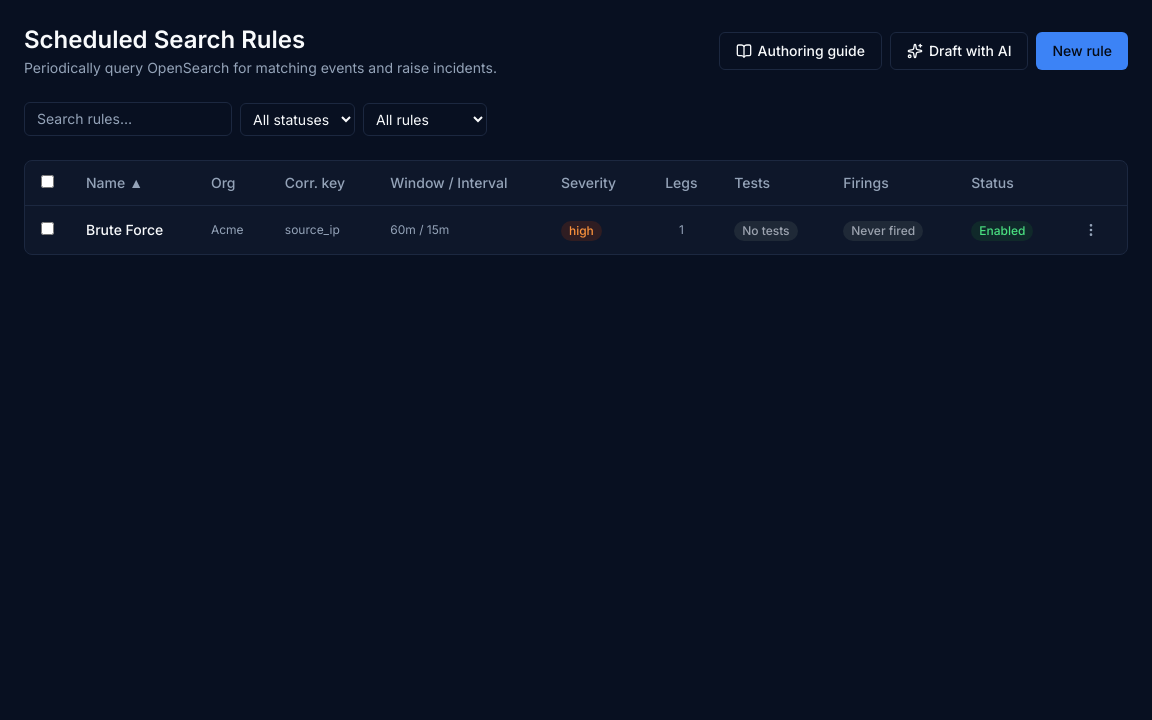
it: SearchRulesAdmin — clone rule › opens the builder in create mode pre-filled with a "Copy of" name
Expected: the button "Brute Force" is shown, [86, 220, 163, 240]
What coordinates should you click on to do the following:
click the button named "Actions"
I would click on:
 (1091, 230)
Its box is [1079, 218, 1103, 242].
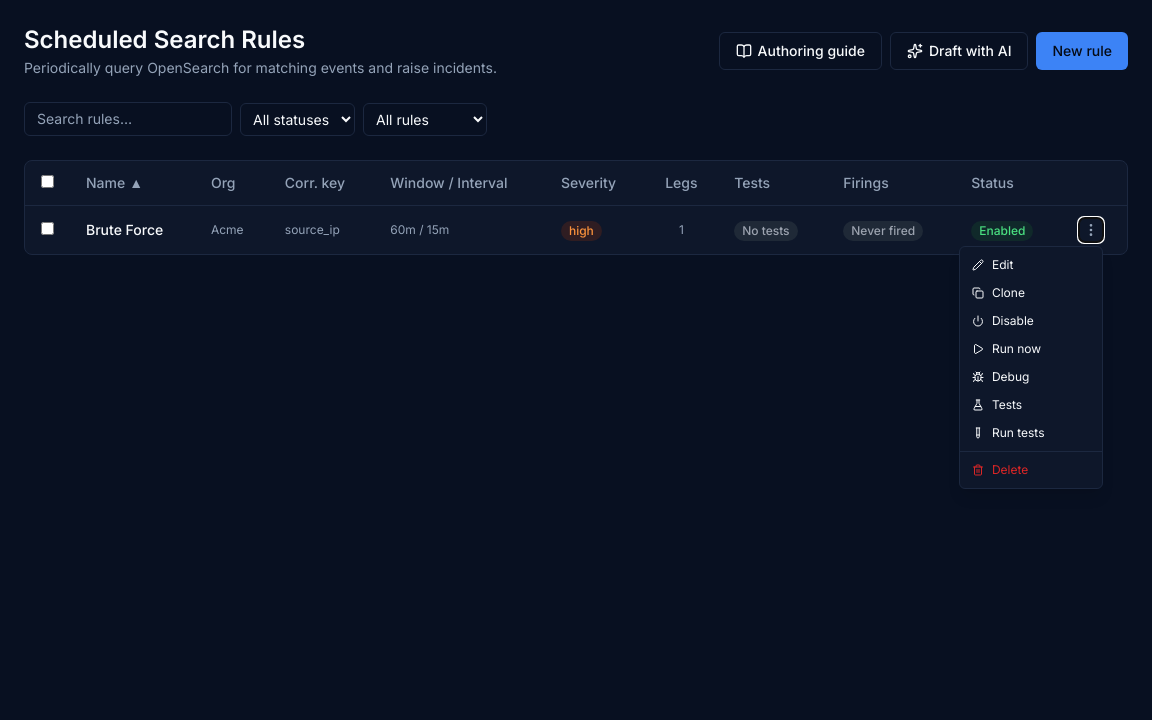
What coordinates should you click on to do the following:
click the button "Clone"
I would click on:
 (1031, 293)
Its box is [960, 279, 1102, 307].
(page scrolled)
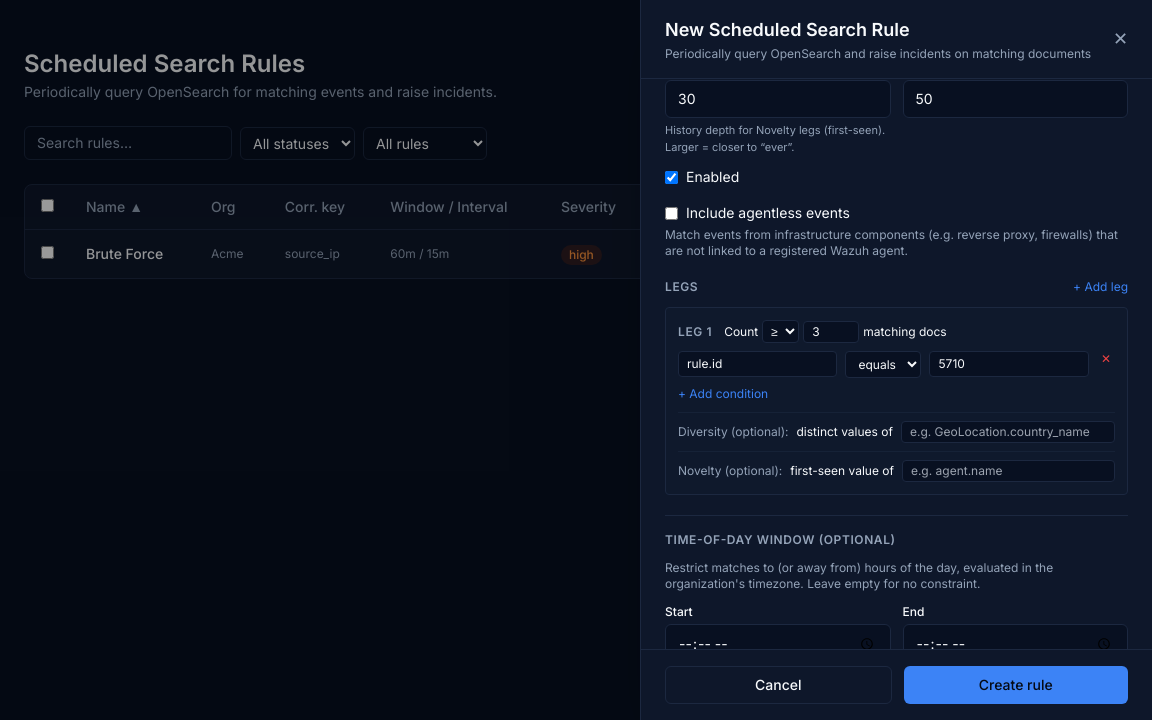
Expected: the heading "New Scheduled Search Rule" is shown, [665, 19, 910, 40]
Expected: the button "Create rule" is shown, [904, 666, 1128, 704]
Expected: the field showing "5710" is shown, [930, 351, 1089, 377]
